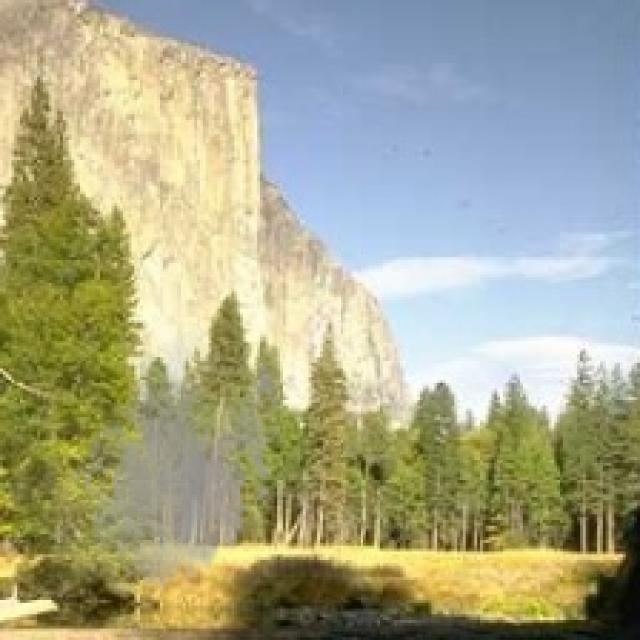smoke: (68, 323, 283, 603)
